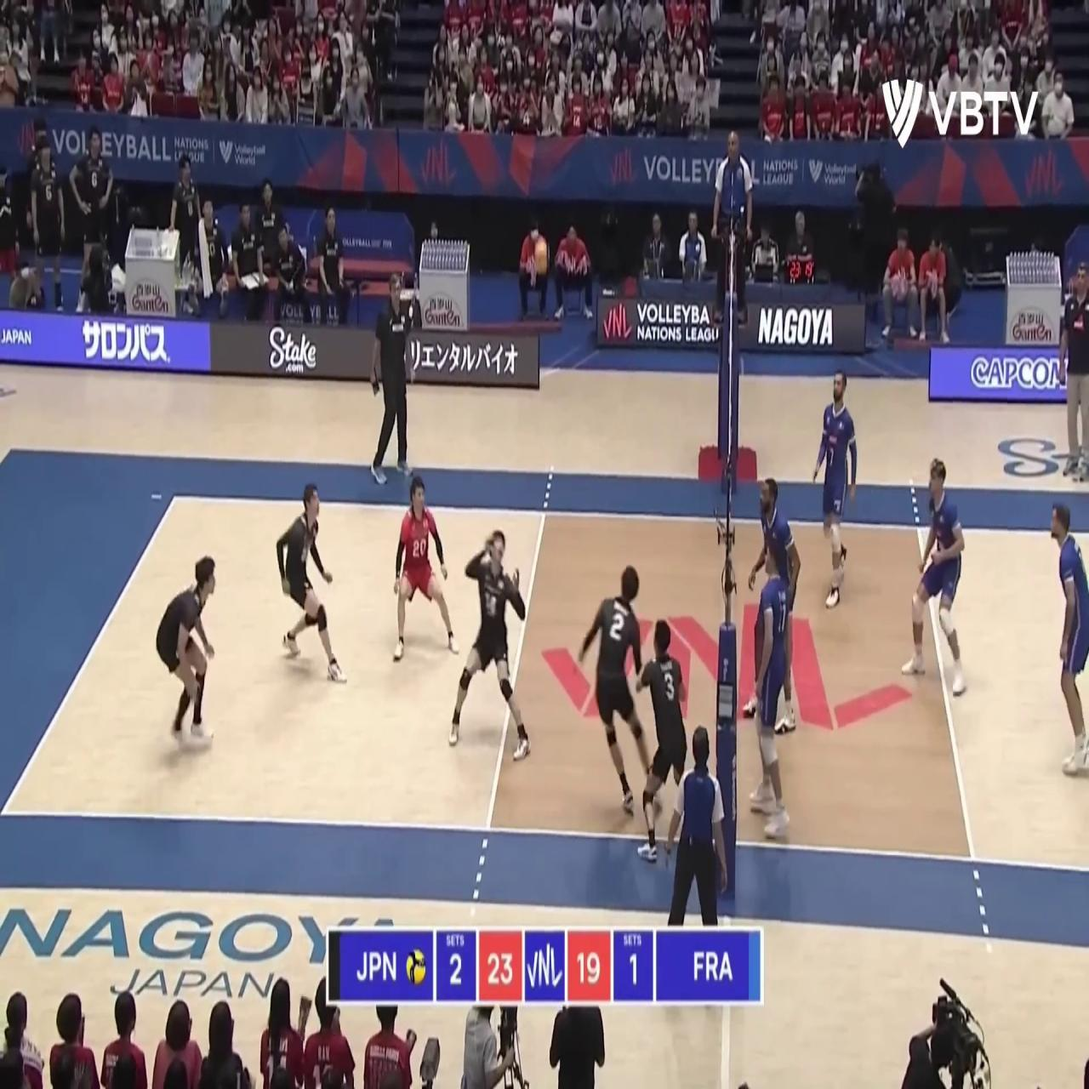ball: (533, 237, 551, 273)
